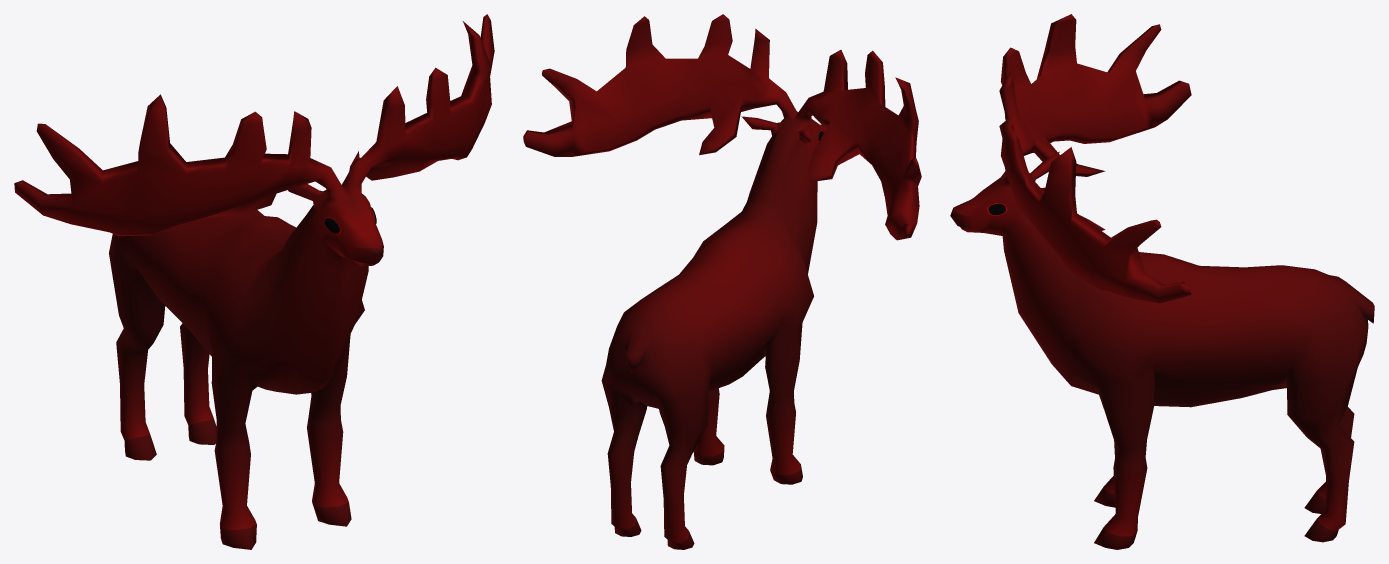
Rendered from Animals_Megaloceros.fbx.
3 renders of one model, left to right at view 1: azimuth 30°, elevation 25°; view 2: azimuth 150°, elevation 25°; view 3: azimuth 270°, elevation 25°, orthographic. The views are drawn at different scales.
Visible parts, largest first — view 1: base; view 2: base; view 3: base.
Boxes of the visible parts, x1=… form: base: x1=14, y1=14, x2=494, y2=549; base: x1=523, y1=14, x2=921, y2=549; base: x1=950, y1=14, x2=1374, y2=549.
Bounding box in the file's own units: 332 × 333 × 291.
